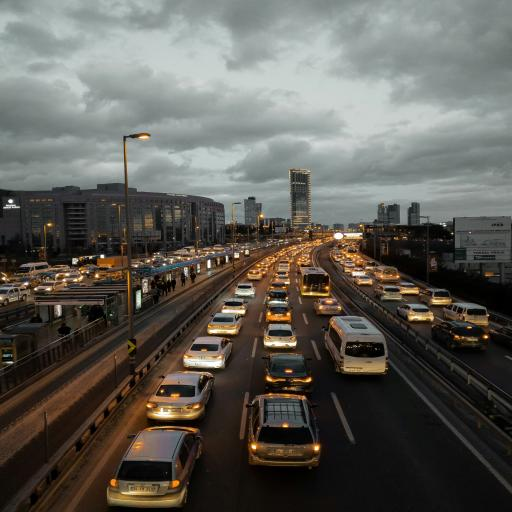car: (107, 426, 202, 508), (247, 394, 320, 467), (147, 372, 214, 420), (263, 354, 312, 393), (431, 322, 489, 349), (184, 337, 232, 368), (444, 303, 488, 325), (264, 324, 296, 348), (207, 313, 242, 334), (397, 304, 433, 321), (419, 288, 451, 306), (0, 287, 27, 306), (489, 327, 511, 349), (266, 303, 291, 322), (314, 298, 341, 315), (222, 299, 248, 316), (375, 285, 401, 300), (34, 281, 66, 292), (265, 290, 288, 305), (3, 278, 30, 290), (15, 276, 41, 288), (234, 283, 255, 297), (396, 282, 419, 294), (63, 270, 83, 282), (274, 270, 290, 284), (36, 271, 55, 282), (7, 273, 30, 282), (353, 275, 372, 285), (269, 281, 287, 291), (79, 265, 96, 274), (247, 270, 262, 280), (67, 283, 91, 289), (56, 269, 69, 279), (351, 267, 364, 277), (51, 265, 69, 272), (342, 263, 355, 272), (259, 265, 268, 276), (365, 261, 377, 269), (0, 272, 7, 283), (369, 267, 378, 275), (340, 258, 351, 264)
